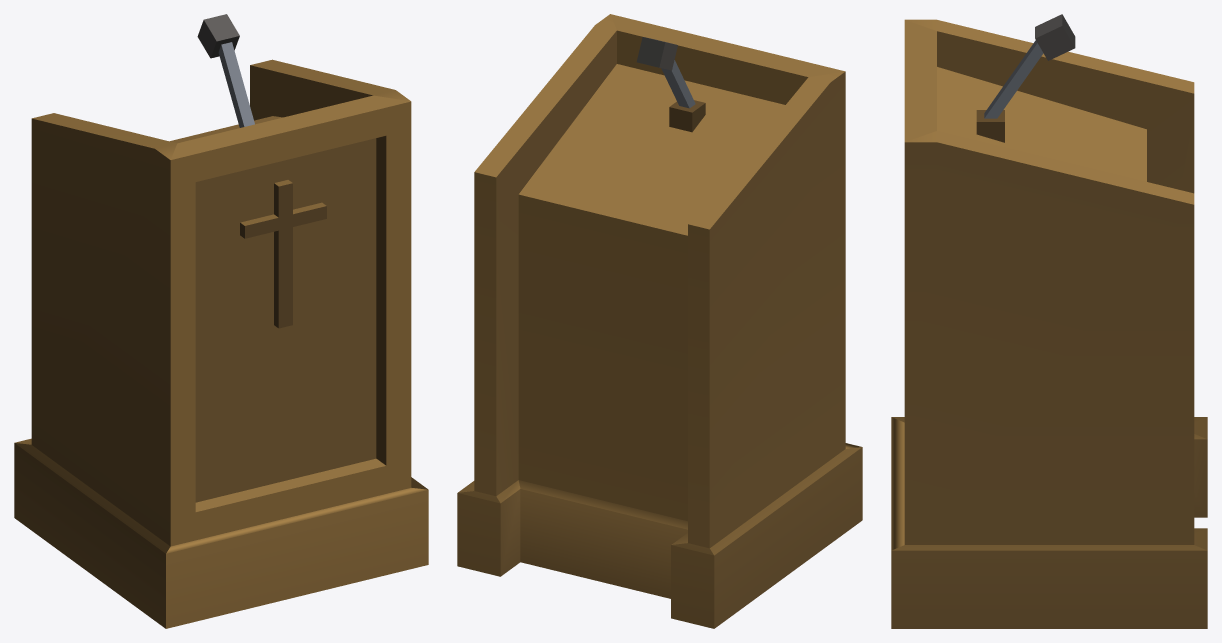
The model's file is AI_Prop_Church_Podium.fbx.
The picture shows the model from 3 angles, left to right: view 1: azimuth 30°, elevation 25°; view 2: azimuth 150°, elevation 25°; view 3: azimuth 270°, elevation 25°; orthographic projection. The views are drawn at different scales.
Visible parts, largest first — view 1: AI_Prop_Church_Podium; view 2: AI_Prop_Church_Podium; view 3: AI_Prop_Church_Podium.
Boxes of the visible parts, left/top/right/bottom form: AI_Prop_Church_Podium: left=14, top=14, right=428, bottom=628; AI_Prop_Church_Podium: left=457, top=14, right=862, bottom=628; AI_Prop_Church_Podium: left=891, top=14, right=1207, bottom=628.
Size of the model in its own units: 1 by 1.89 by 1.
